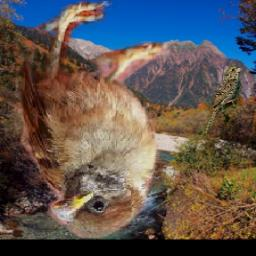Sparrow: (0, 2, 172, 239), (204, 65, 242, 134)
